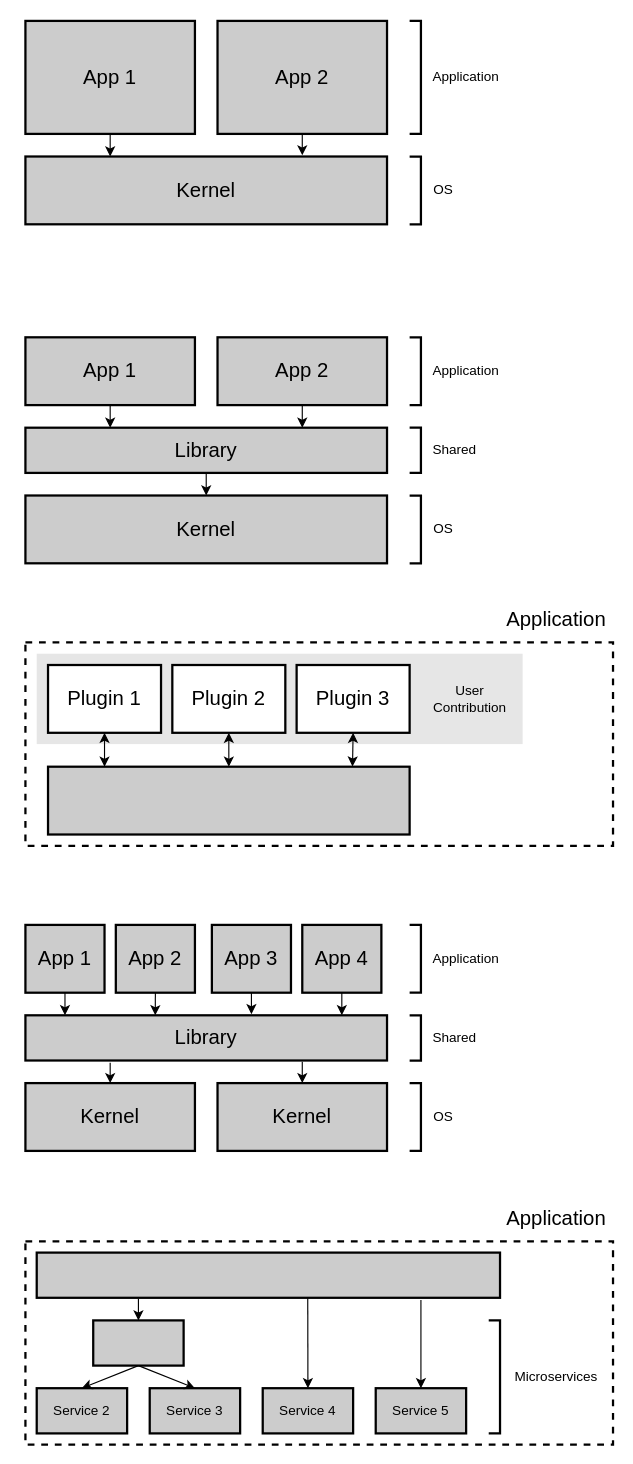
Some shapes in this 633 by 1464 pixel diagram are drawn without their labels. Here are the shapes that lost their labels. From the top down, the centre of each, then its label:
the point at 228,800: Base Application
the point at 268,1274: UI
the point at 138,1342: Service 1
